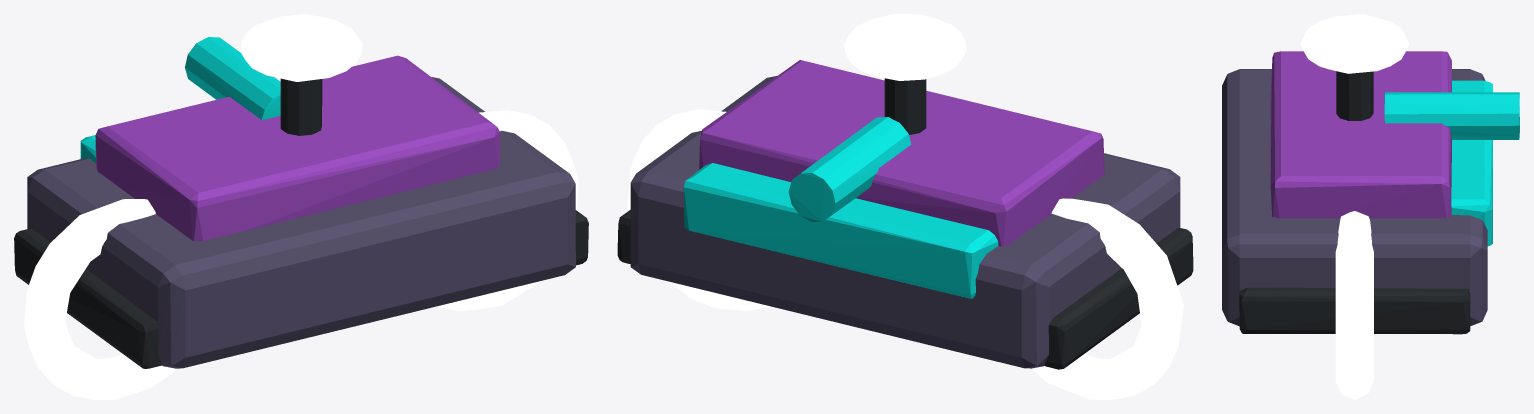
Rendered from SM_Chronolegion_CH_ParallaxScout_LOD1.fbx.
3 views of the same model, side by side, from view 1: azimuth 30°, elevation 25°; view 2: azimuth 150°, elevation 25°; view 3: azimuth 270°, elevation 25° (orthographic). The views are drawn at different scales.
Parts seen in each view (by area): view 1: LOD01_SM_Chronolegion_CH_ParallaxScout; view 2: LOD01_SM_Chronolegion_CH_ParallaxScout; view 3: LOD01_SM_Chronolegion_CH_ParallaxScout.
Boxes of the visible parts, <box> form: LOD01_SM_Chronolegion_CH_ParallaxScout: <box>14,14,588,399</box>; LOD01_SM_Chronolegion_CH_ParallaxScout: <box>617,14,1193,399</box>; LOD01_SM_Chronolegion_CH_ParallaxScout: <box>1222,14,1519,399</box>.
Size of the model in its own units: 381 by 202 by 216.
